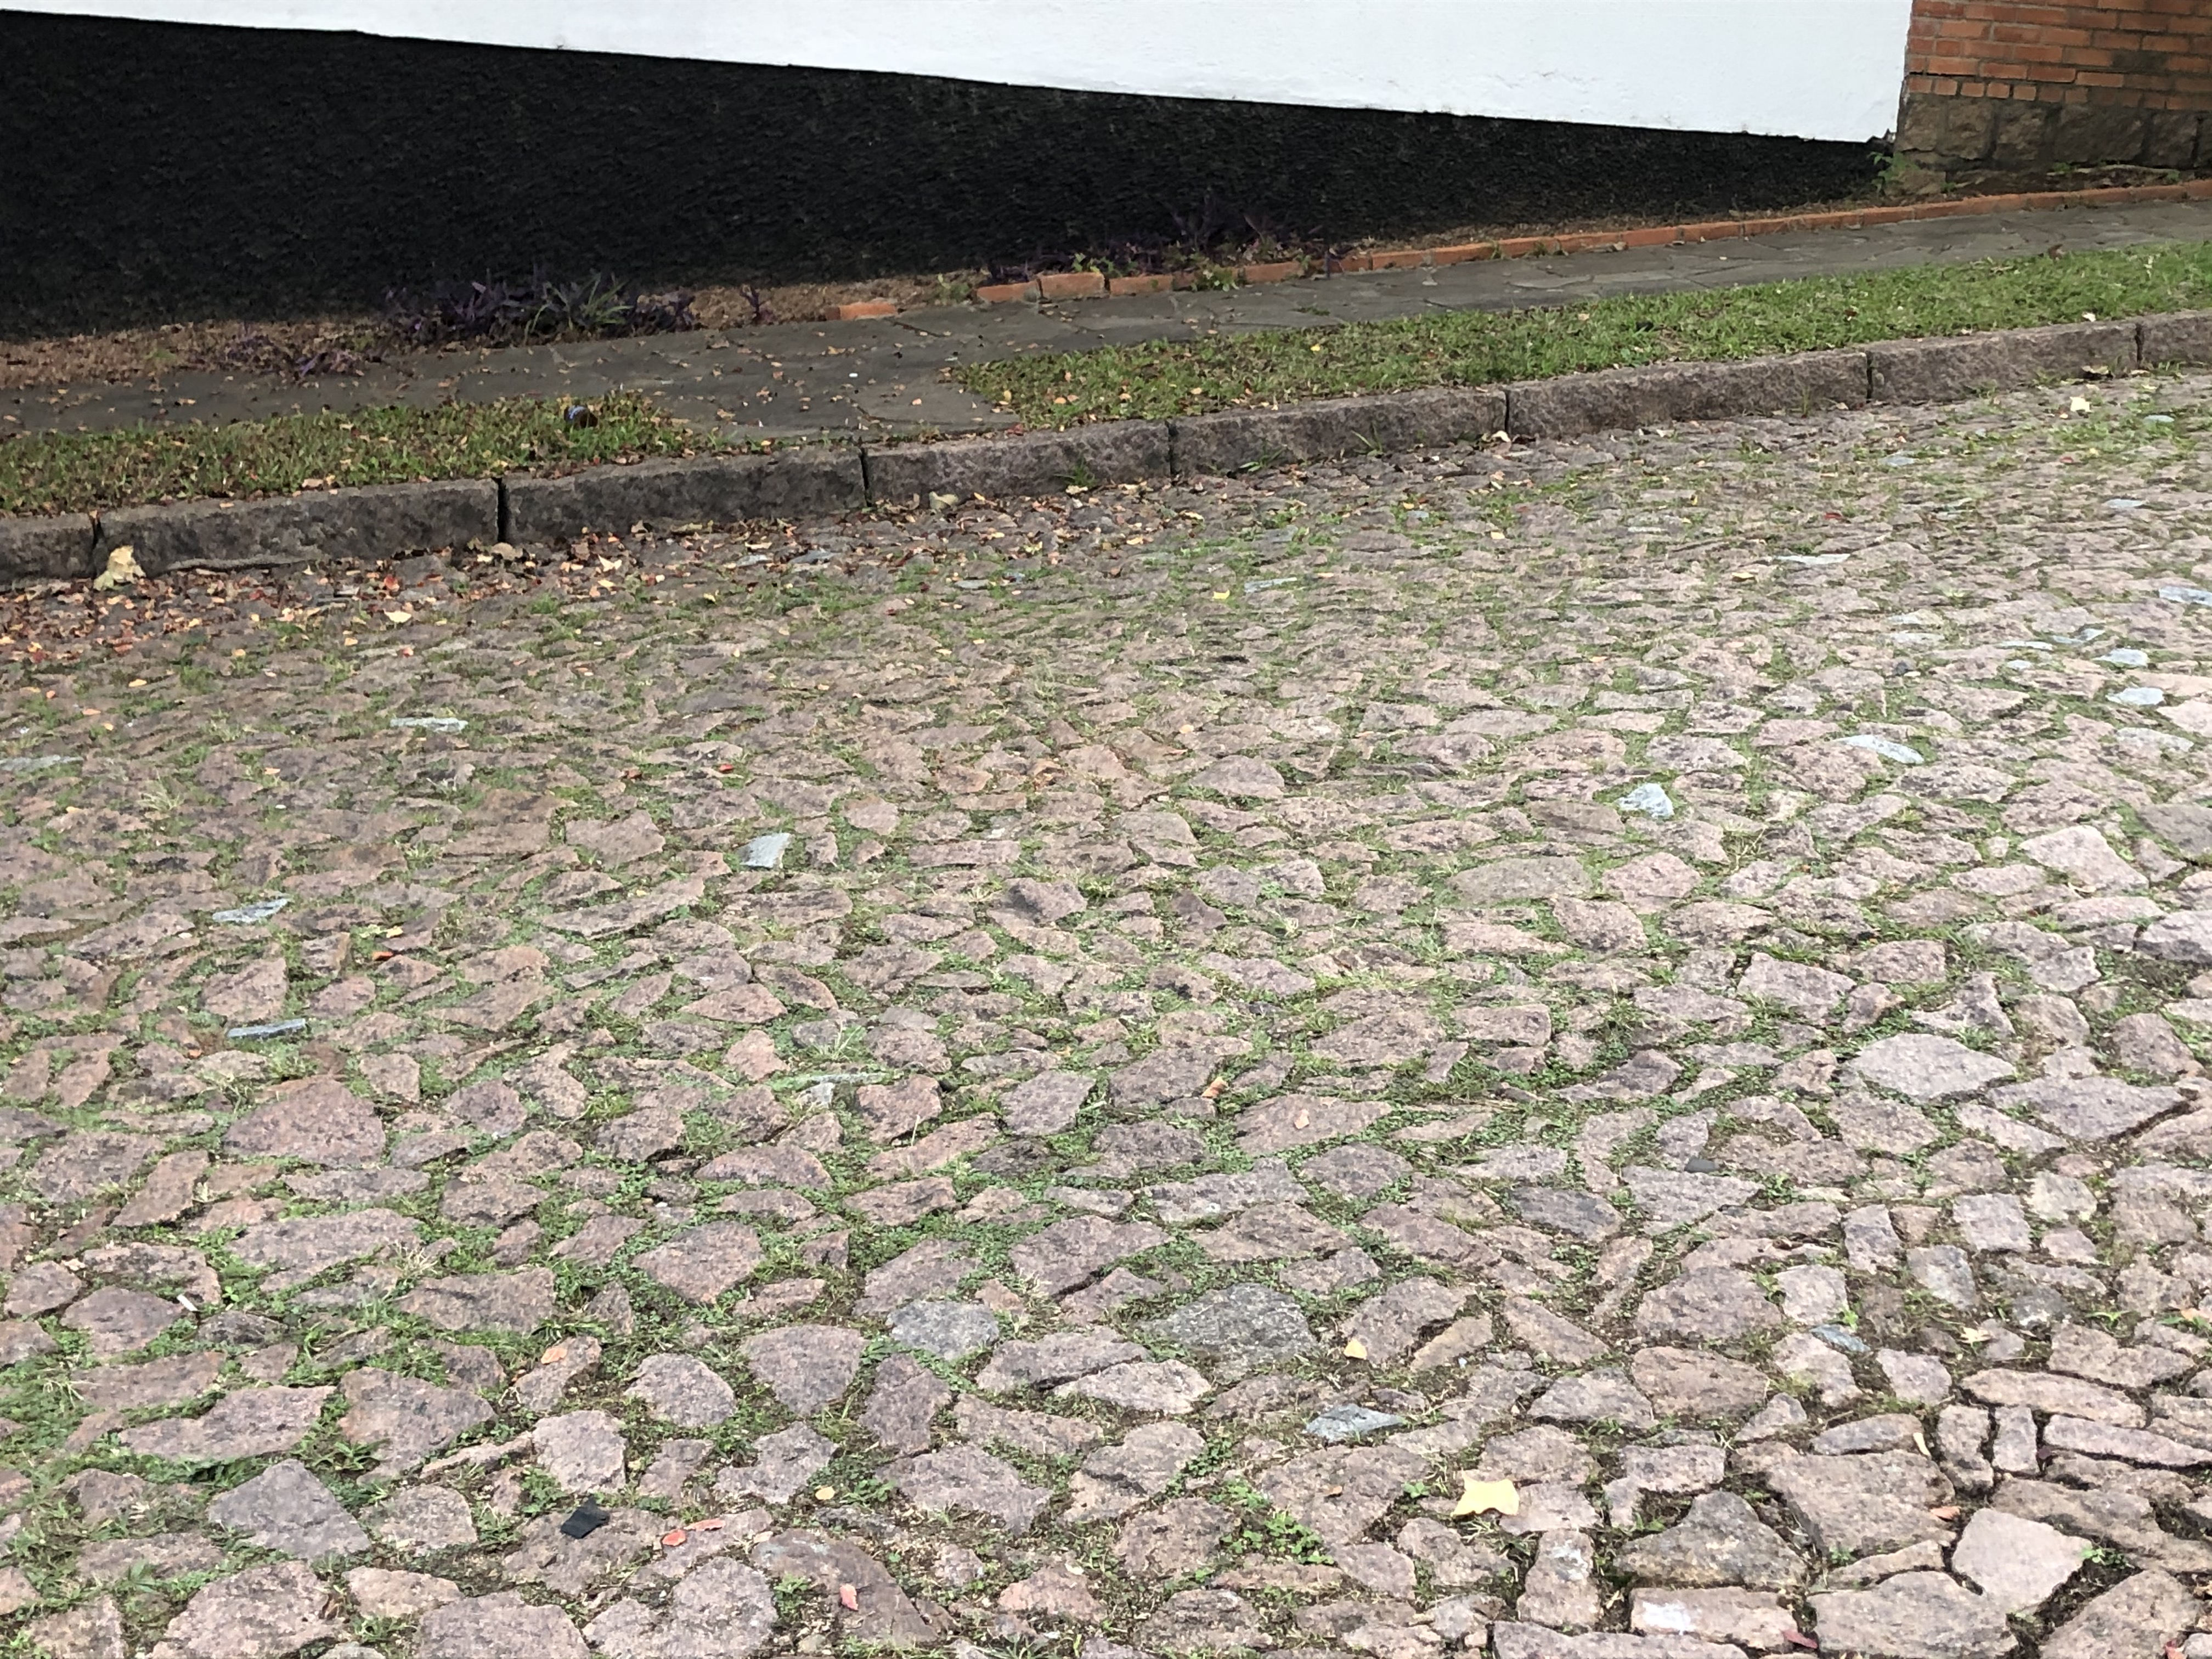vag71: (24, 221, 2209, 589)
